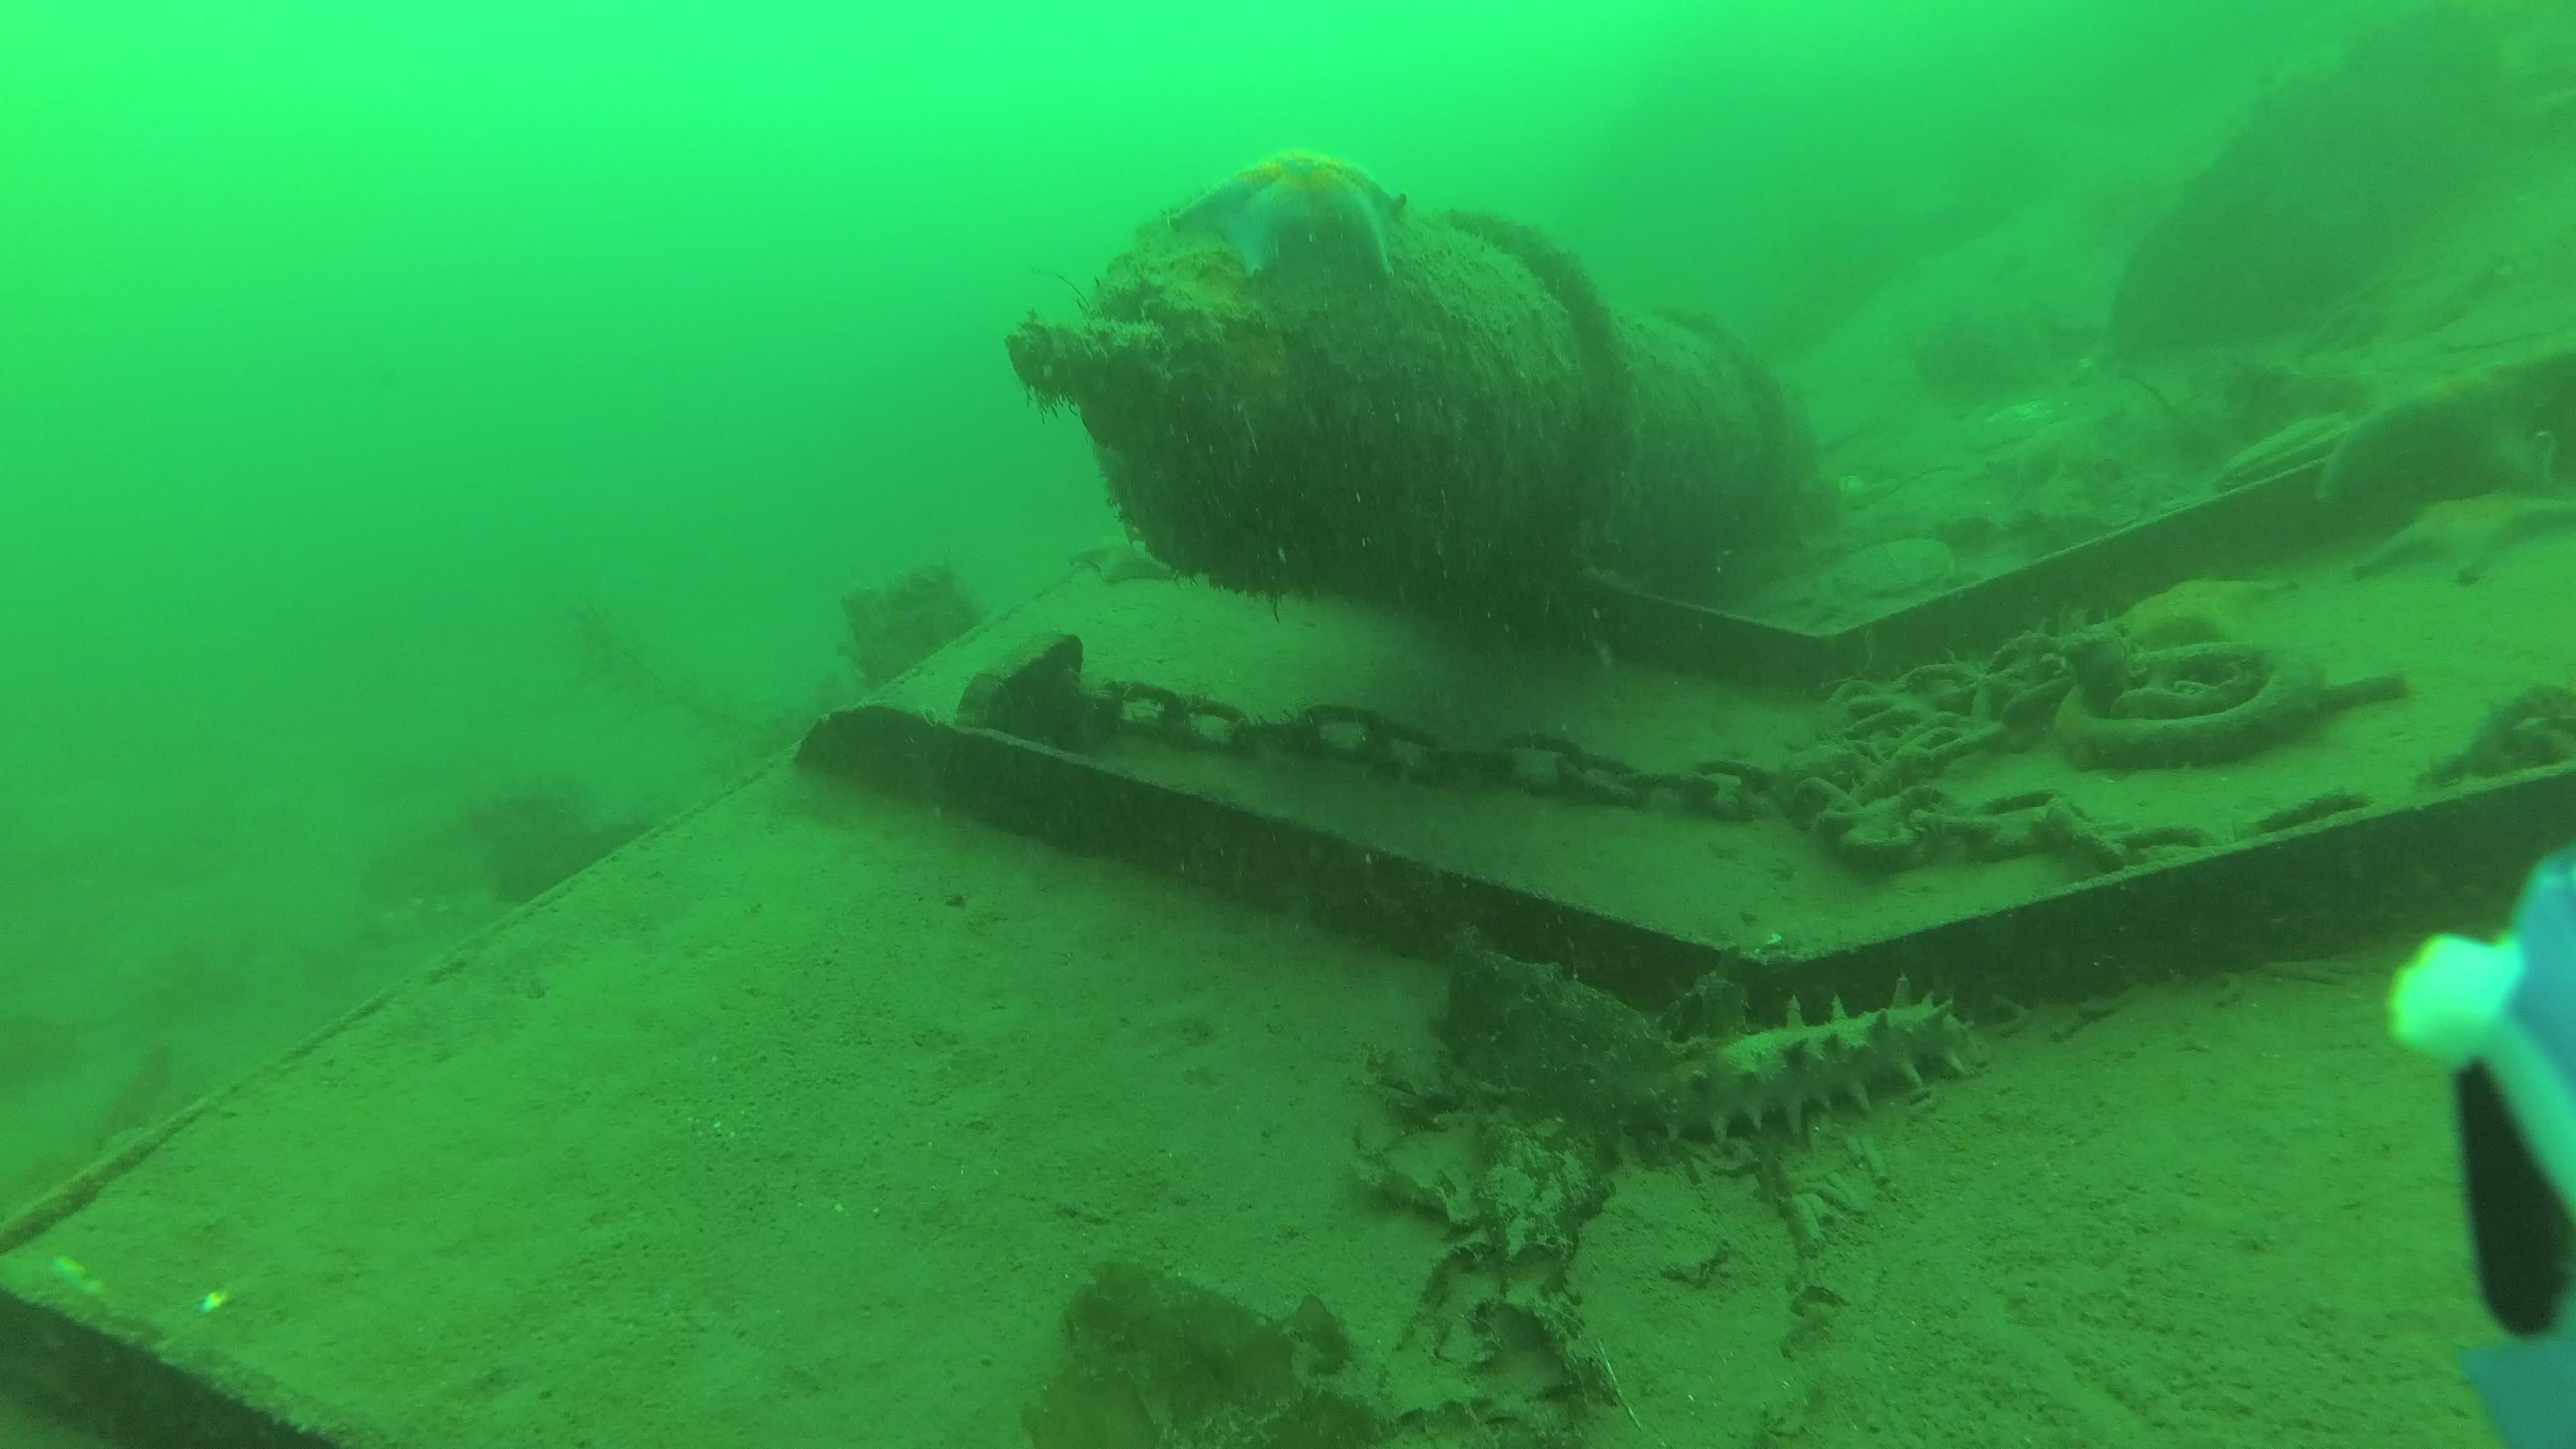holothurian: (1606, 977, 1996, 1152)
scallop: (1835, 541, 1957, 602)
starfish: (2323, 336, 2576, 492), (1169, 150, 1412, 283), (2351, 497, 2576, 580), (2114, 575, 2305, 651), (1990, 412, 2144, 481), (1076, 541, 1173, 589)
